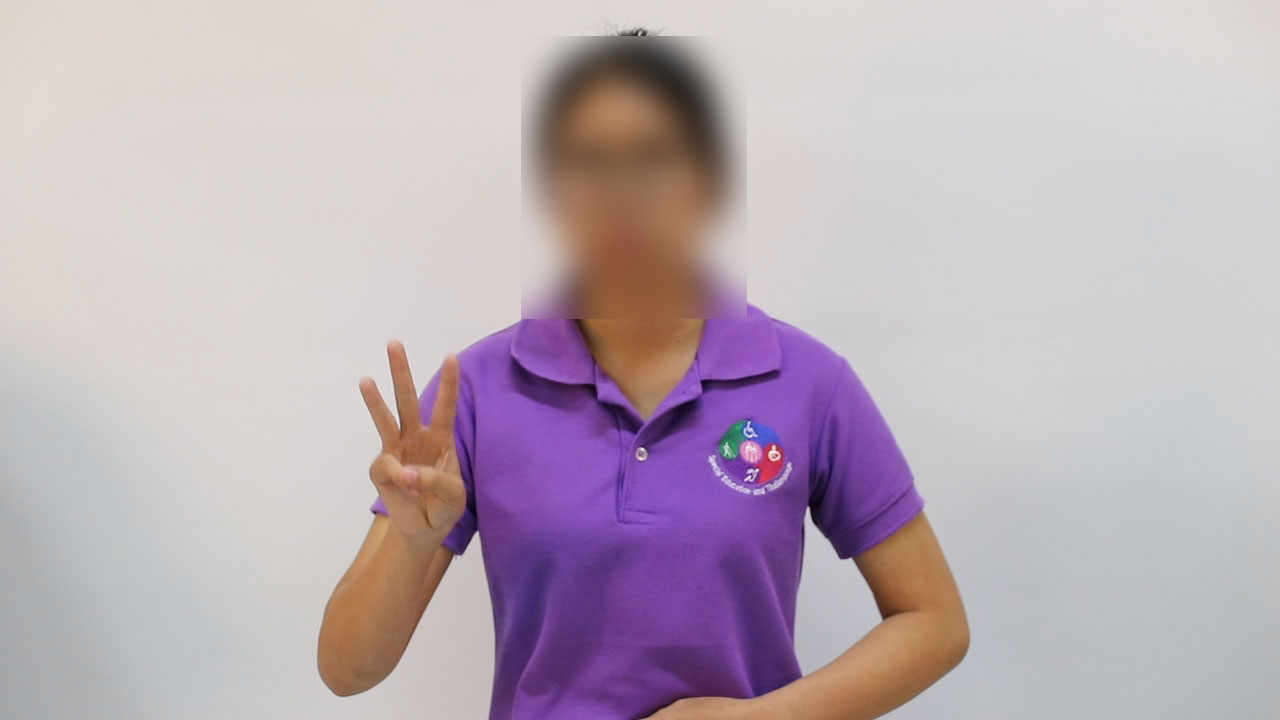wor: (345, 334, 477, 553)
